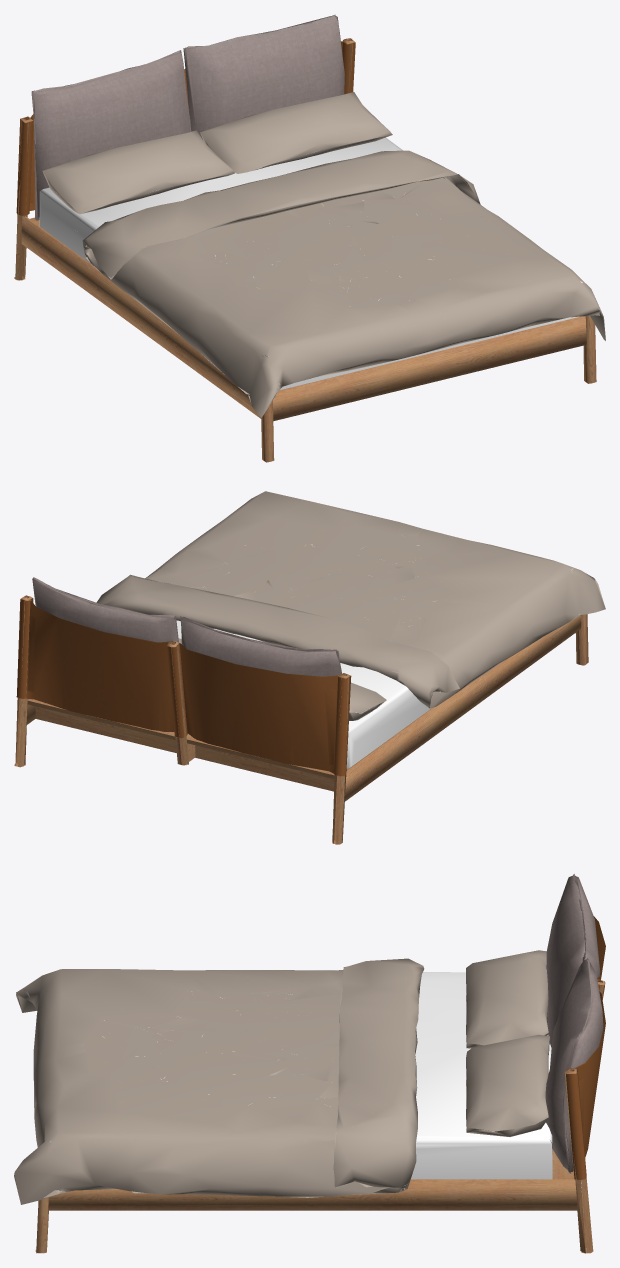
3 renders of one model, top to bottom at view 1: azimuth 30°, elevation 25°; view 2: azimuth 150°, elevation 25°; view 3: azimuth 270°, elevation 25°, orthographic. The views are drawn at different scales.
Visible parts, largest first — view 1: liv_queen_bed_ss001; view 2: liv_queen_bed_ss001; view 3: liv_queen_bed_ss001.
Boxes of the visible parts, x1,y1,x2,y2 form: liv_queen_bed_ss001: (14, 14, 605, 462); liv_queen_bed_ss001: (14, 491, 605, 844); liv_queen_bed_ss001: (14, 874, 605, 1253).
Bounding box in the file's own units: 184 × 91.7 × 235.
Materials: 1 (1 with a texture image).
